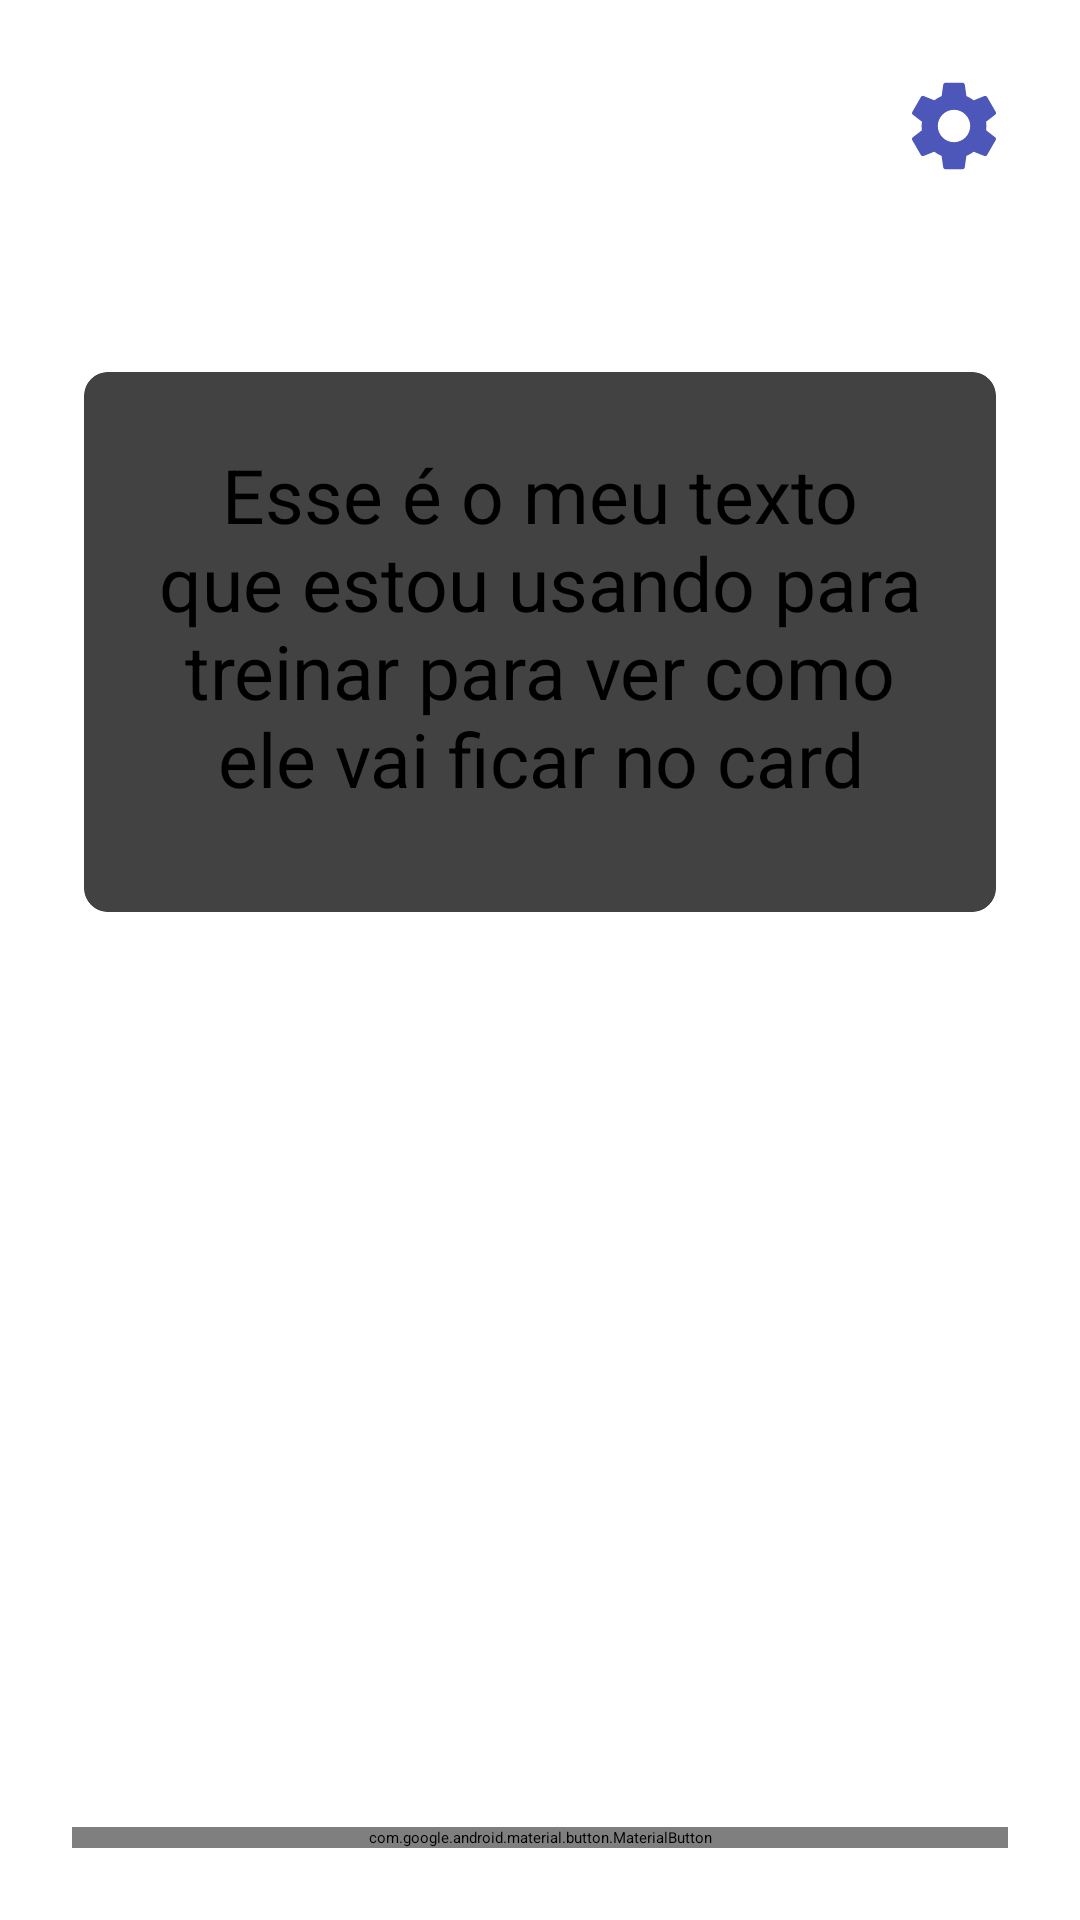

Locate icon controls on the screen. Image size 1080px×1920px, boxes as (x1, y1, x2, y2).
settings: (912, 82, 996, 170)
